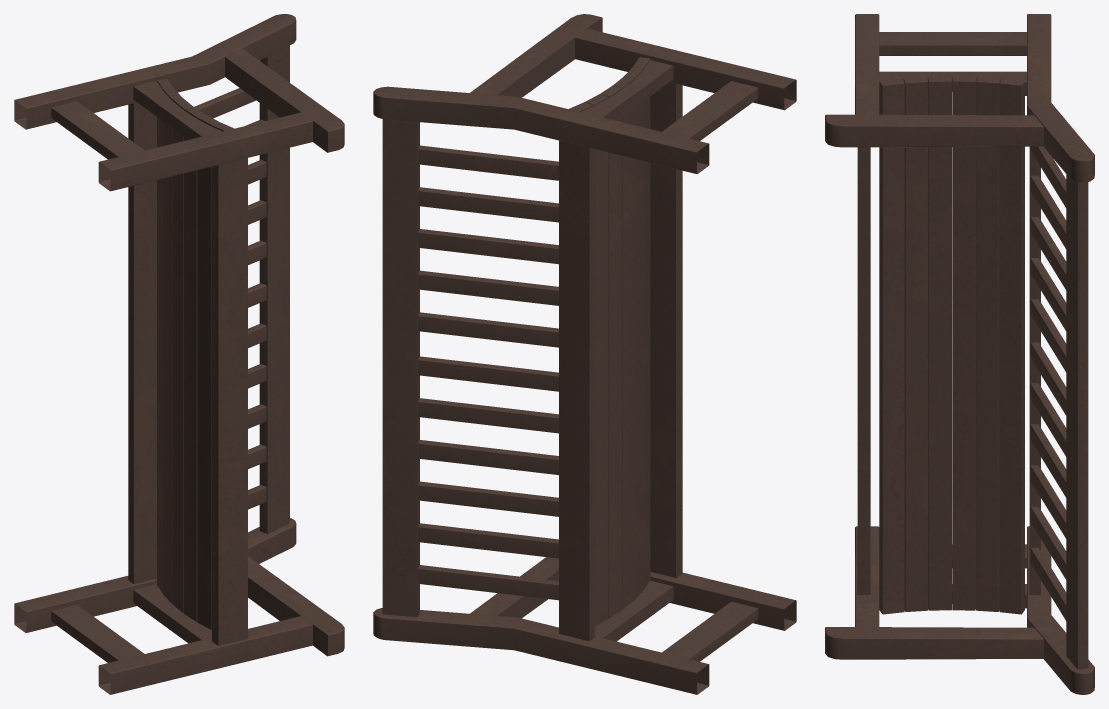
File: cP_Bench04.dae
3 renders of one model, left to right at view 1: azimuth 30°, elevation 25°; view 2: azimuth 150°, elevation 25°; view 3: azimuth 270°, elevation 25°, orthographic. The views are drawn at different scales.
Visible parts, largest first — view 1: cP_Bench04.001; view 2: cP_Bench04.001; view 3: cP_Bench04.001.
Boxes of the visible parts, x1,y1,x2,y2 form: cP_Bench04.001: (14,14,344,694); cP_Bench04.001: (373,14,796,694); cP_Bench04.001: (825,14,1094,694).
Bounding box in the file's own units: 1.25 × 0.9703 × 2.12.
